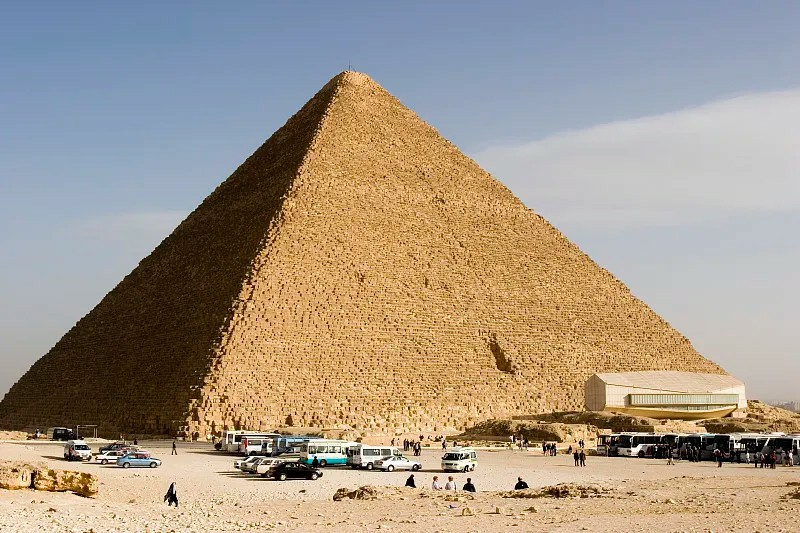Pyramid: (1, 71, 727, 439)
